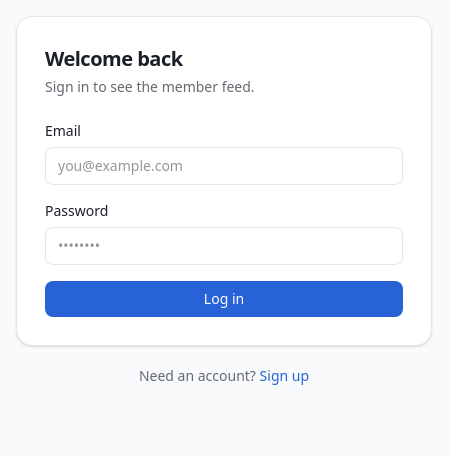
Test: login › reports an unreachable API rather than failing silently
The image size is (449, 456).
Type "ada@example.com" into the field labelled "Email".
click(224, 166); type("ada@example.com")  # box x1=45 y1=147 x2=403 y2=185
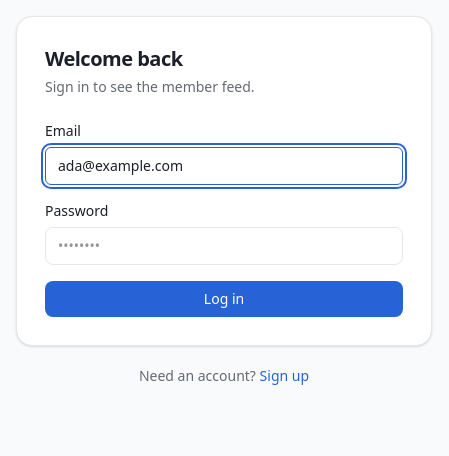
Type "correct horse battery" into the password field labelled "Password".
click(224, 246); type("correct horse battery")  # box x1=45 y1=227 x2=403 y2=265
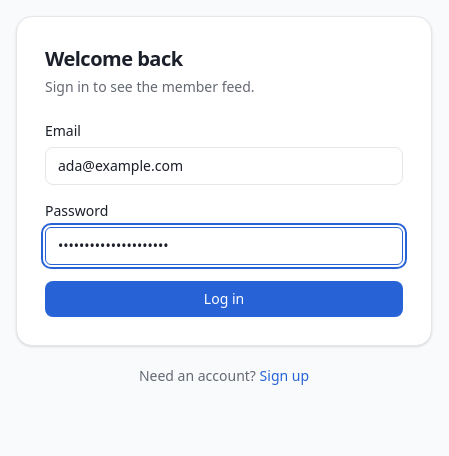
Click the button "Log in".
click(224, 299)  # box x1=45 y1=281 x2=403 y2=317
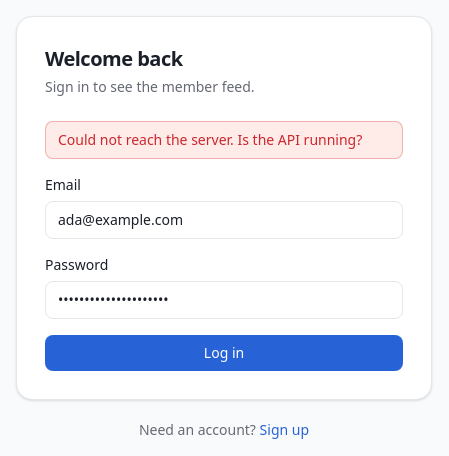
Expected: the message shows "Could not reach the server", x1=58 y1=130 x2=362 y2=149
